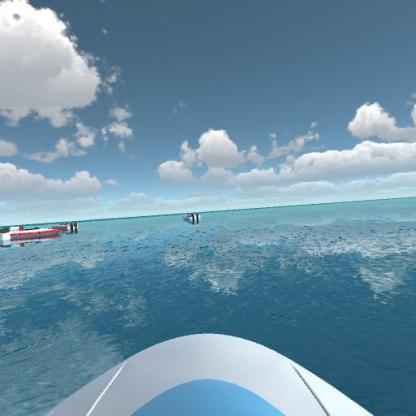usv1: (178, 209, 205, 224)
usv3: (2, 219, 61, 243), (51, 220, 80, 232)
